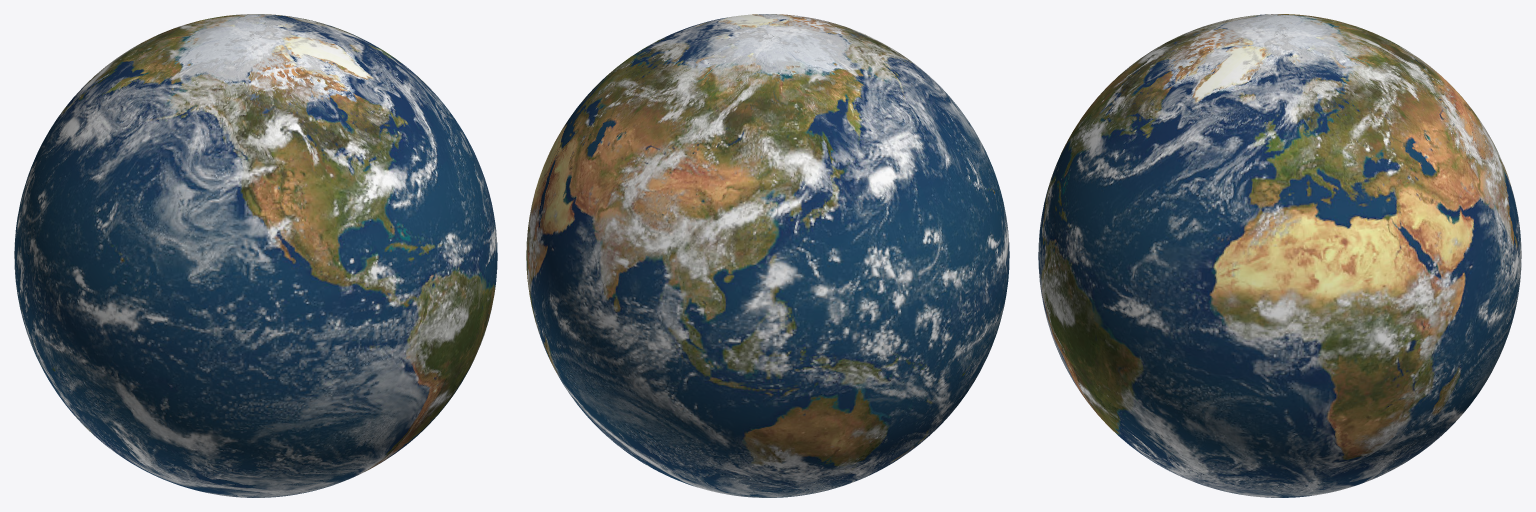
The model's file is earth.dae.
3 renders of one model, left to right at view 1: azimuth 30°, elevation 25°; view 2: azimuth 150°, elevation 25°; view 3: azimuth 270°, elevation 25°, orthographic.
Visible parts, largest first — view 1: earth; view 2: earth; view 3: earth.
Boxes of the visible parts, x1,y1,x2,y2 form: earth: (14,14,497,497); earth: (526,14,1009,497); earth: (1038,14,1521,497).
Size of the model in its own units: 0.6348 by 0.6348 by 0.6366.
1 material, 1 textured.
